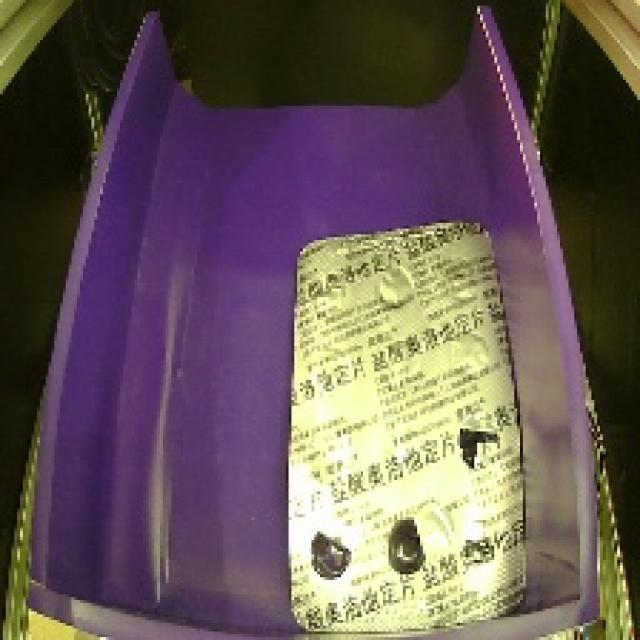med_plate: (274, 217, 541, 632)
